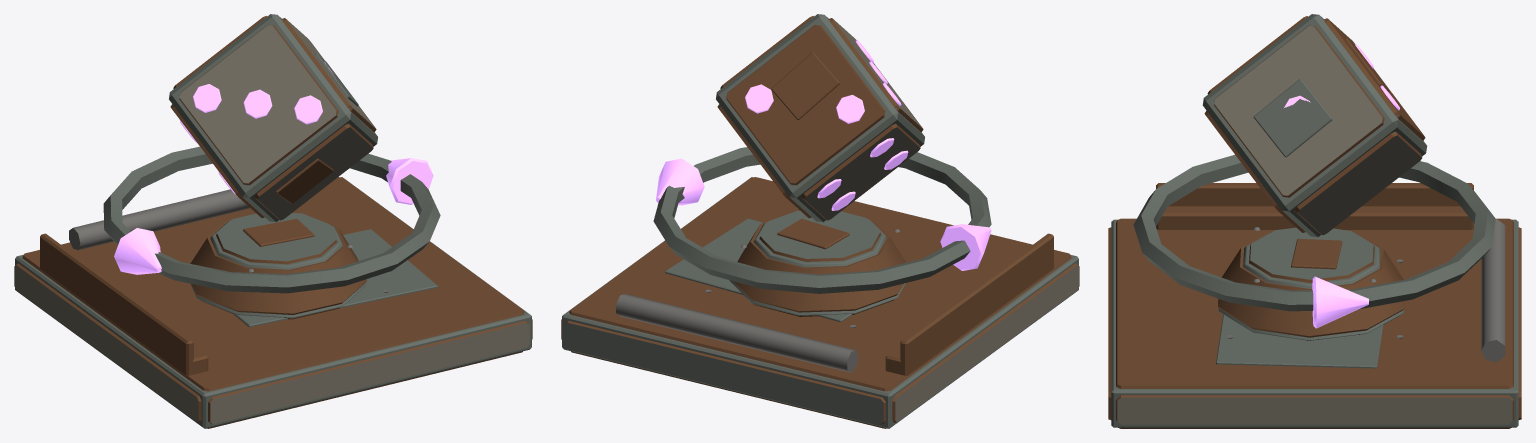
The model's file is R4X_RewardReroll.fbx.
3 renders of one model, left to right at view 1: azimuth 30°, elevation 25°; view 2: azimuth 150°, elevation 25°; view 3: azimuth 270°, elevation 25°, orthographic. The views are drawn at different scales.
Parts seen in each view (by area): view 1: R4X_RewardReroll_Body, R4X_RewardReroll_Die; view 2: R4X_RewardReroll_Body, R4X_RewardReroll_Die; view 3: R4X_RewardReroll_Body, R4X_RewardReroll_Die.
Boxes of the visible parts, <box> form: R4X_RewardReroll_Body: <box>14,146,532,428</box>; R4X_RewardReroll_Die: <box>169,14,377,222</box>; R4X_RewardReroll_Body: <box>561,147,1079,428</box>; R4X_RewardReroll_Die: <box>716,14,924,222</box>; R4X_RewardReroll_Body: <box>1108,155,1521,428</box>; R4X_RewardReroll_Die: <box>1202,14,1427,237</box>.
Size of the model in its own units: 0.52 by 0.4581 by 0.52.
